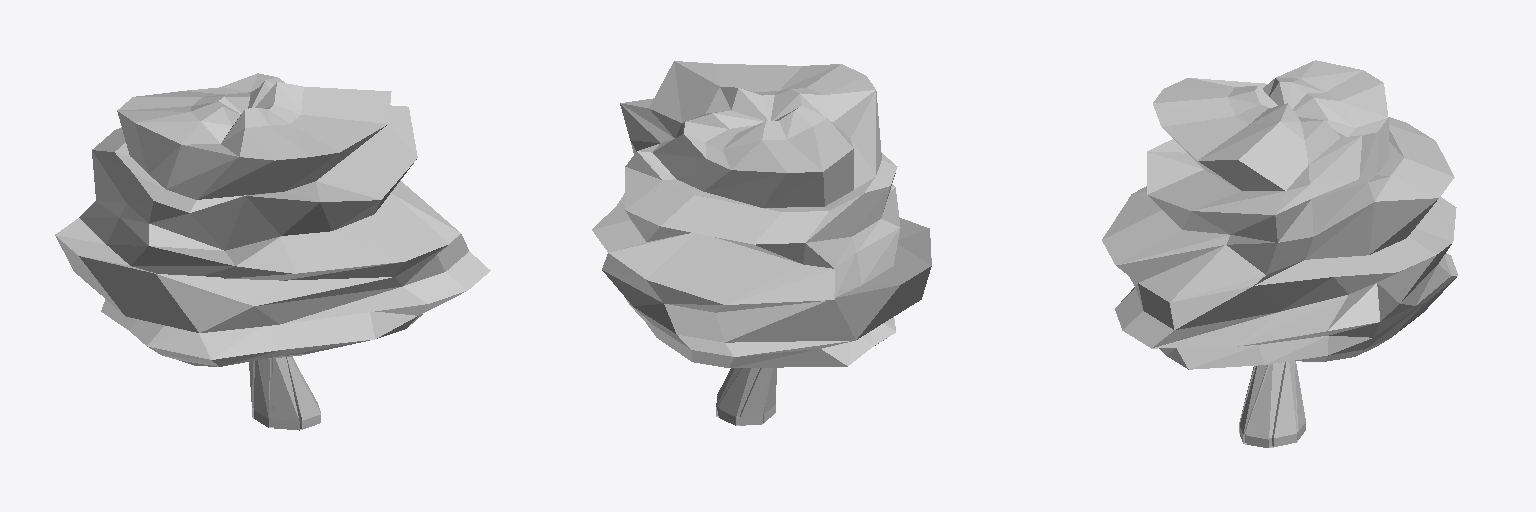
Rendered from bush2.obj.
3 renders of one model, left to right at view 1: azimuth 30°, elevation 25°; view 2: azimuth 150°, elevation 25°; view 3: azimuth 270°, elevation 25°, orthographic.
Parts seen in each view (by area): view 1: group31_pasted__pSphere3; view 2: group31_pasted__pSphere3; view 3: group31_pasted__pSphere3.
Part boxes in pixels (x1,y1,x2,y2): group31_pasted__pSphere3: (55,73,490,430); group31_pasted__pSphere3: (592,61,931,425); group31_pasted__pSphere3: (1102,60,1457,447).
Size of the model in its own units: 3.12 by 2.89 by 2.83.